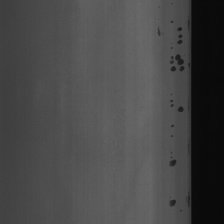oil_spot: (169, 13, 185, 79), (168, 93, 185, 118), (166, 150, 177, 170), (167, 194, 179, 211), (156, 18, 161, 38)
